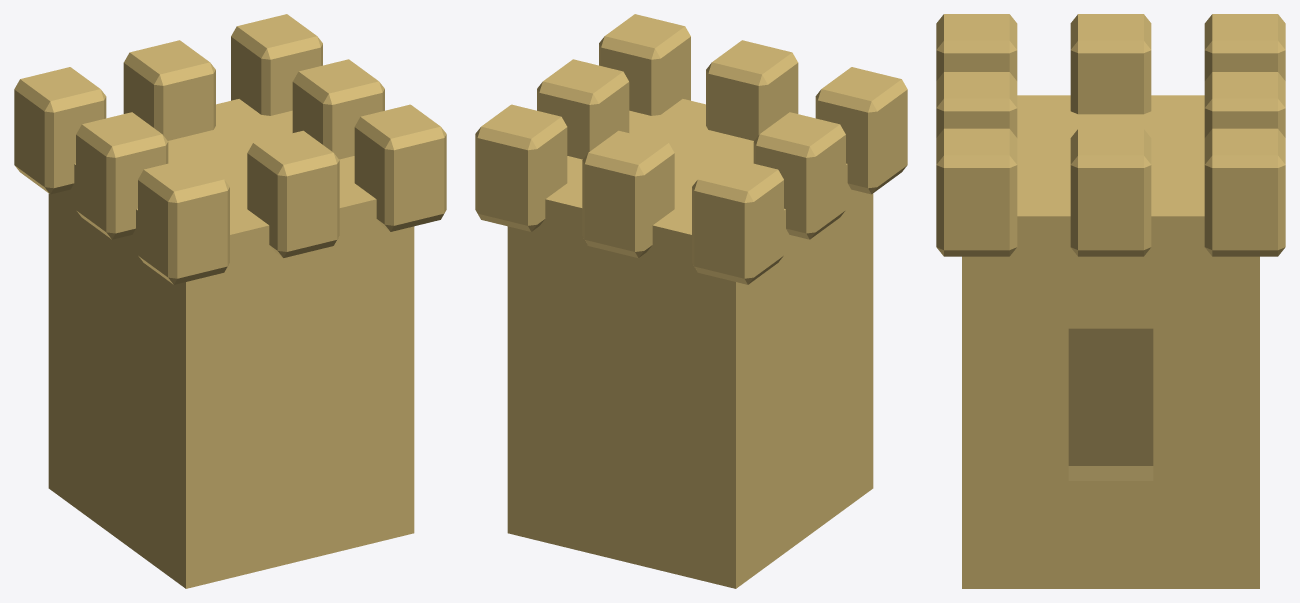
Rendered from SandTower.fbx.
3 views of the same model, side by side, from view 1: azimuth 30°, elevation 25°; view 2: azimuth 150°, elevation 25°; view 3: azimuth 270°, elevation 25° (orthographic). The views are drawn at different scales.
Visible parts, largest first — view 1: Cube.007; view 2: Cube.007; view 3: Cube.007.
Part boxes in pixels (left/top/right/bottom): Cube.007: left=14, top=14, right=446, bottom=588; Cube.007: left=475, top=14, right=907, bottom=588; Cube.007: left=936, top=14, right=1285, bottom=588.
Size of the model in its own units: 100 by 140 by 100.
